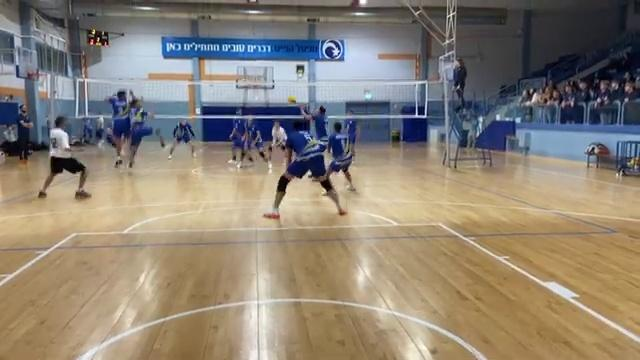ball: (286, 94, 297, 109)
